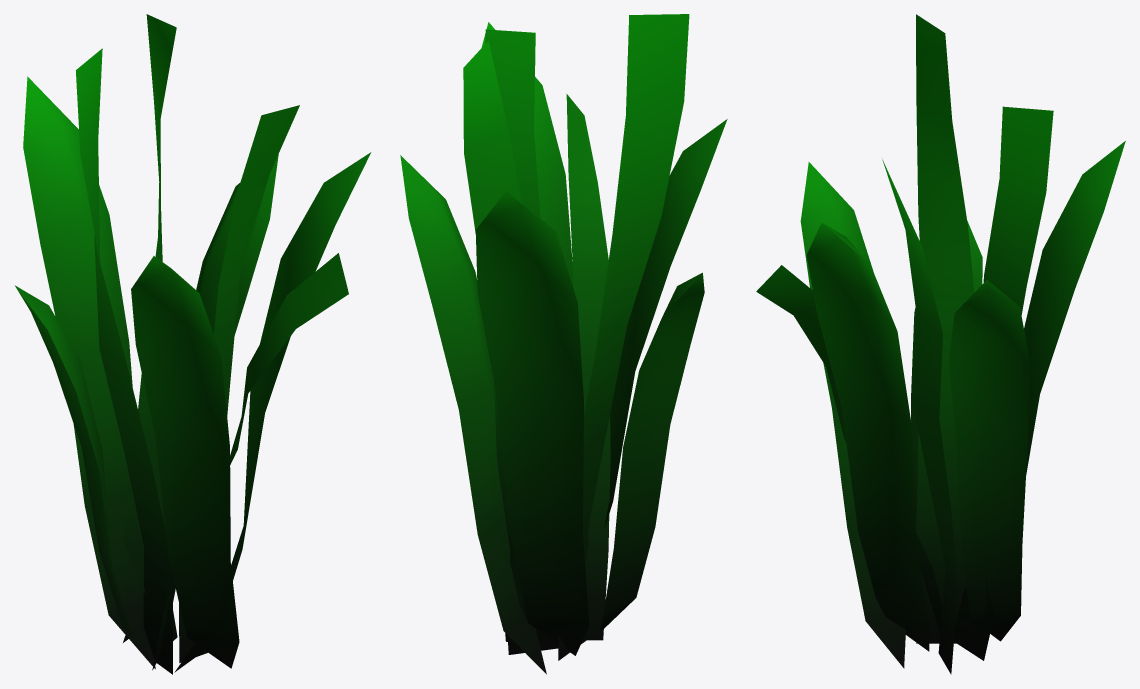
File: TGV_Plant_01B.fbx
The picture shows the model from 3 angles, left to right: view 1: azimuth 30°, elevation 25°; view 2: azimuth 150°, elevation 25°; view 3: azimuth 270°, elevation 25°; orthographic projection. The views are drawn at different scales.
Visible parts, largest first — view 1: TGV_Plant_01B_LOD0; view 2: TGV_Plant_01B_LOD0; view 3: TGV_Plant_01B_LOD0.
Part boxes in pixels (left/top/right/bottom): TGV_Plant_01B_LOD0: left=15, top=14, right=371, bottom=674; TGV_Plant_01B_LOD0: left=400, top=14, right=727, bottom=674; TGV_Plant_01B_LOD0: left=756, top=14, right=1125, bottom=674.
Size of the model in its own units: 59.48 by 128 by 72.5.
